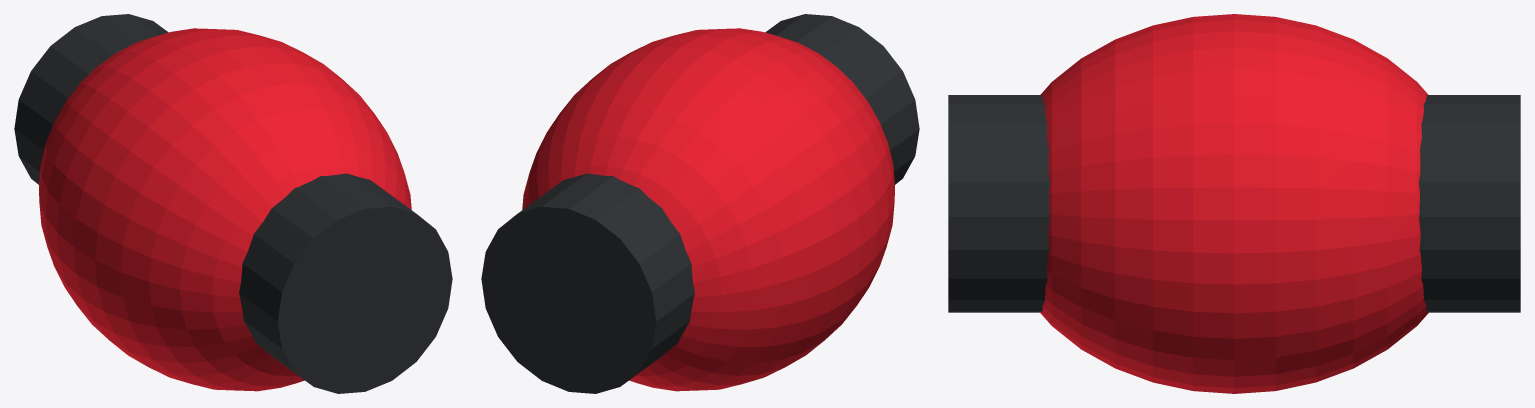
Rendered from tyouchin.obj.
3 views of the same model, side by side, from view 1: azimuth 30°, elevation 25°; view 2: azimuth 150°, elevation 25°; view 3: azimuth 270°, elevation 25° (orthographic). The views are drawn at different scales.
Visible parts, largest first — view 1: group_0_15277357, group_0_2829873; view 2: group_0_15277357, group_0_2829873; view 3: group_0_15277357, group_0_2829873.
Boxes of the visible parts, x1,y1,x2,y2 form: group_0_15277357: [39, 28, 411, 391]; group_0_2829873: [14, 14, 452, 393]; group_0_15277357: [522, 28, 894, 391]; group_0_2829873: [481, 14, 919, 393]; group_0_15277357: [1040, 14, 1428, 393]; group_0_2829873: [948, 95, 1520, 312].
Bounding box in the file's own units: 8 × 8 × 12.
